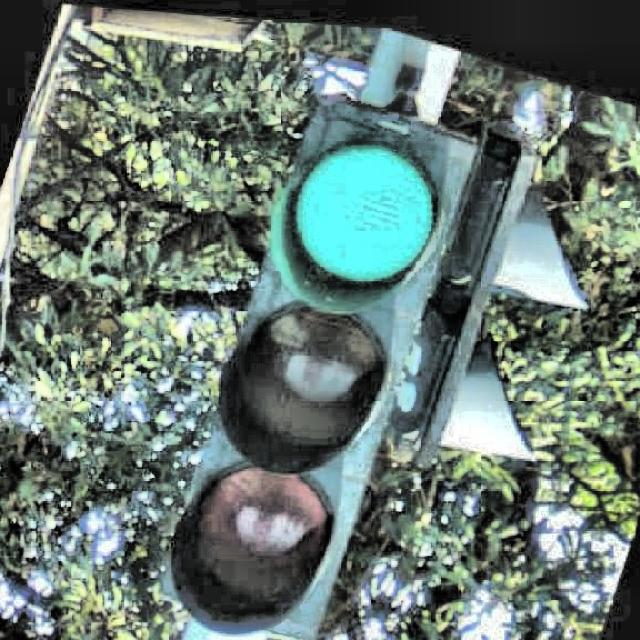green: (163, 79, 489, 640)
